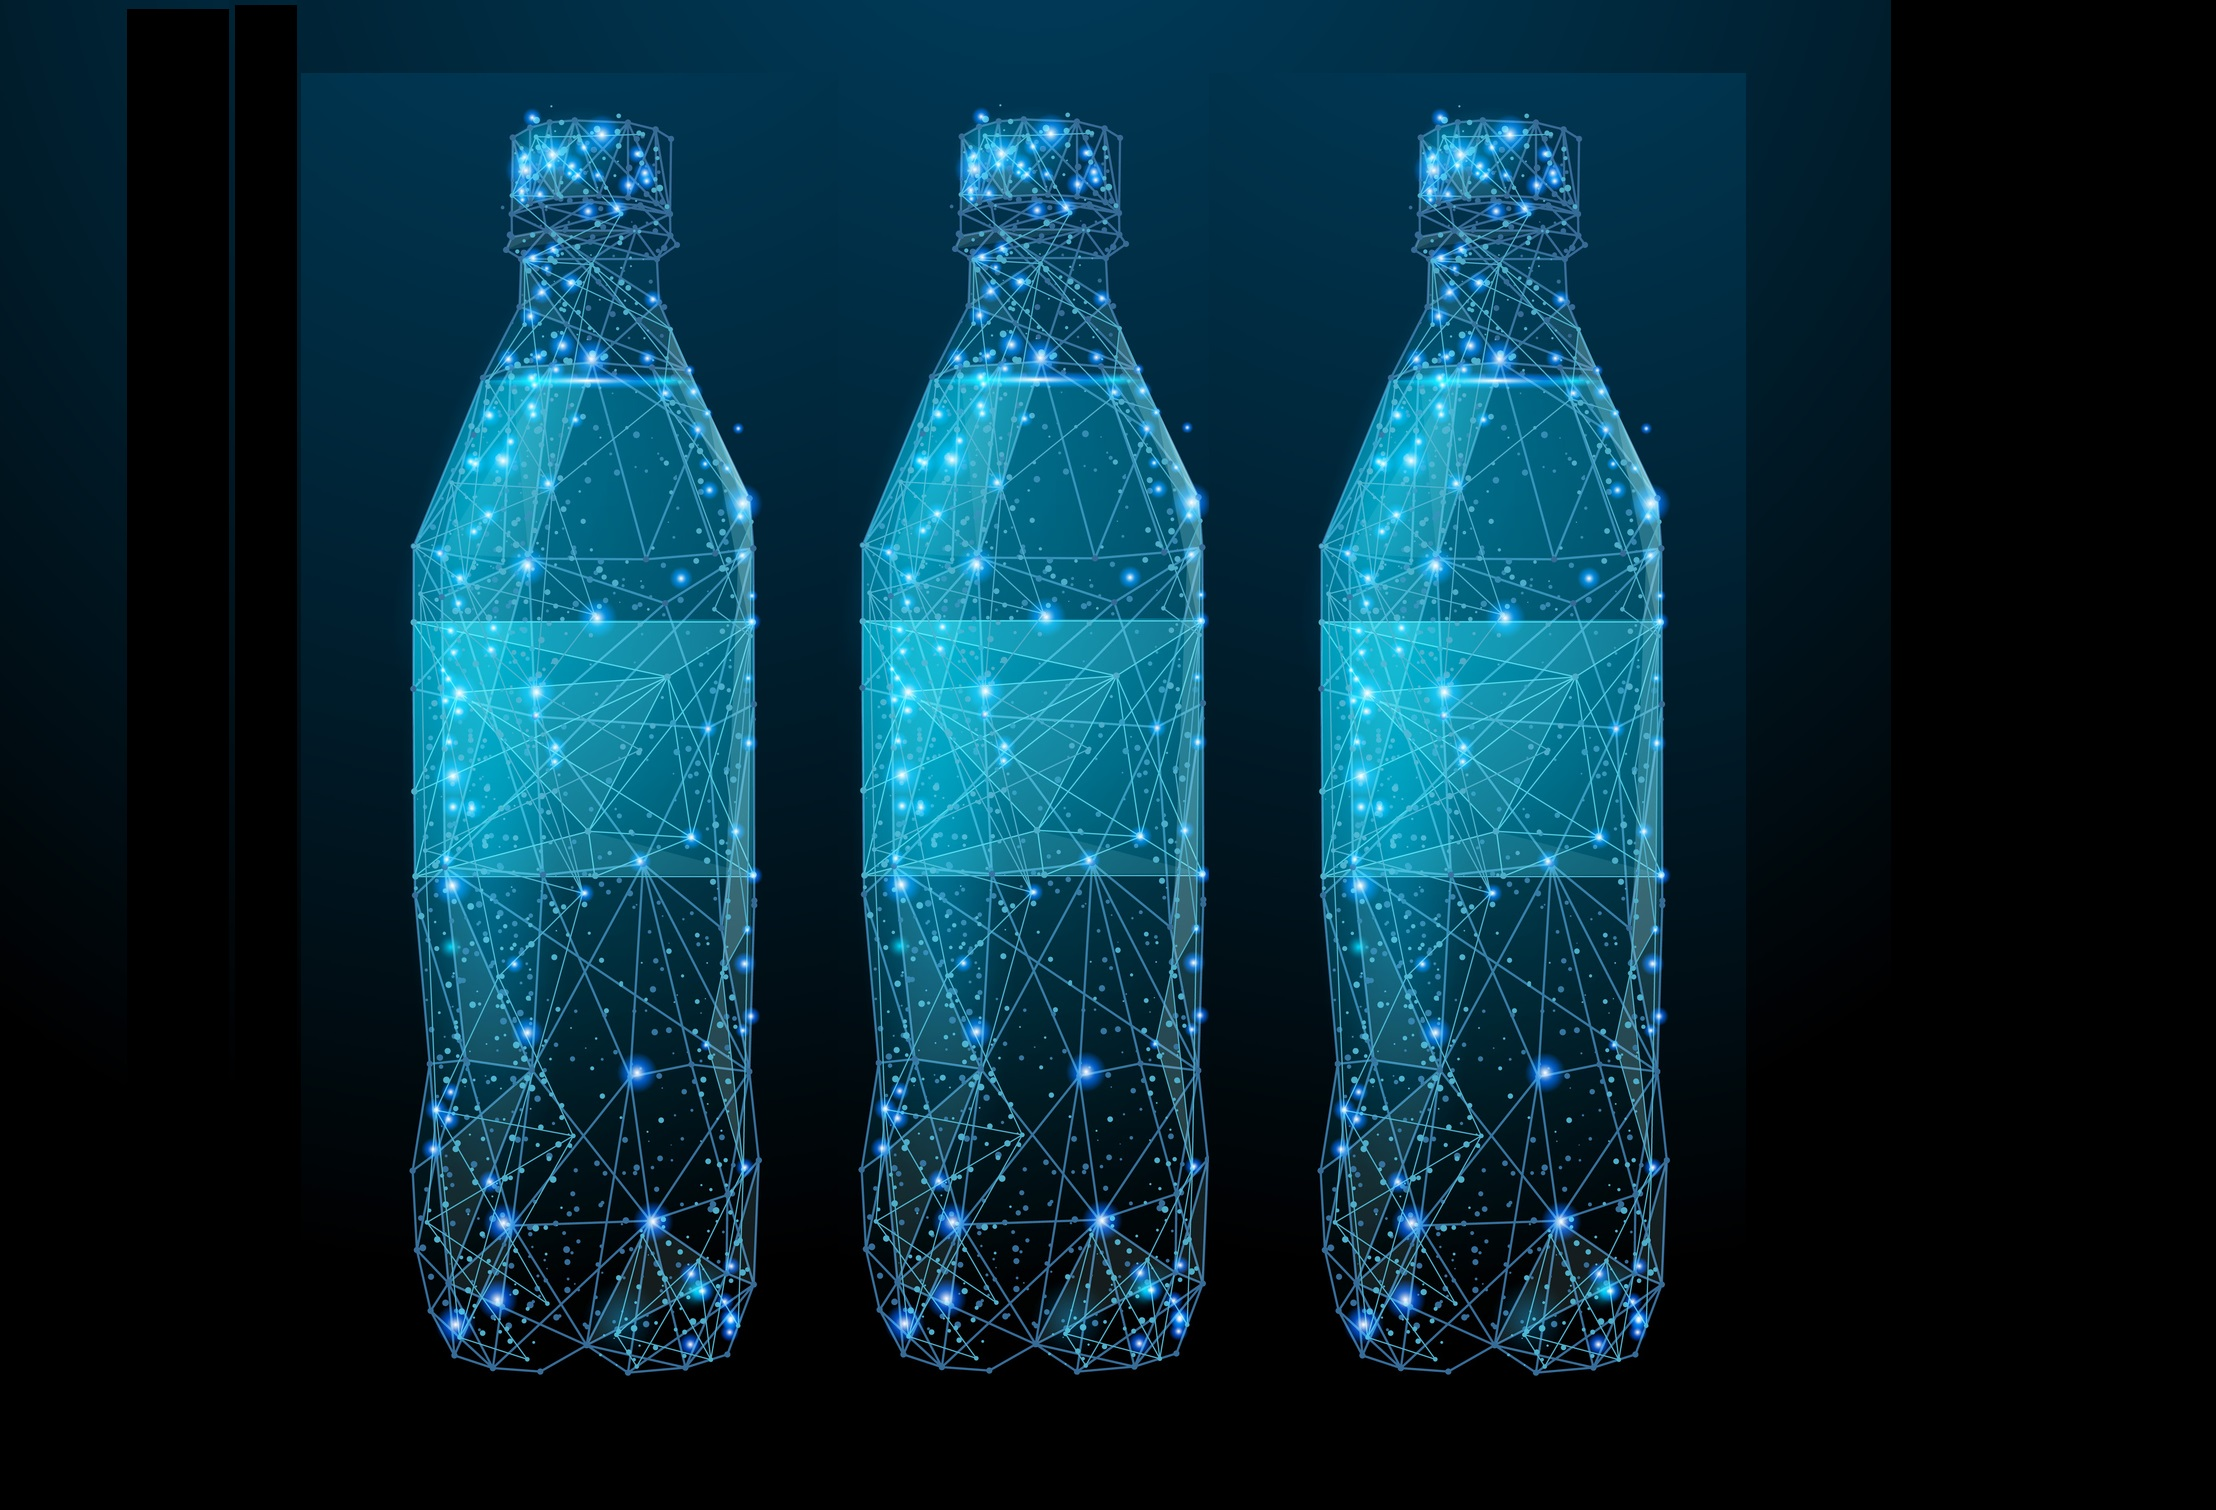plastic_bottle: (1285, 91, 1696, 1389), (387, 93, 790, 1385), (849, 98, 1231, 1385)
